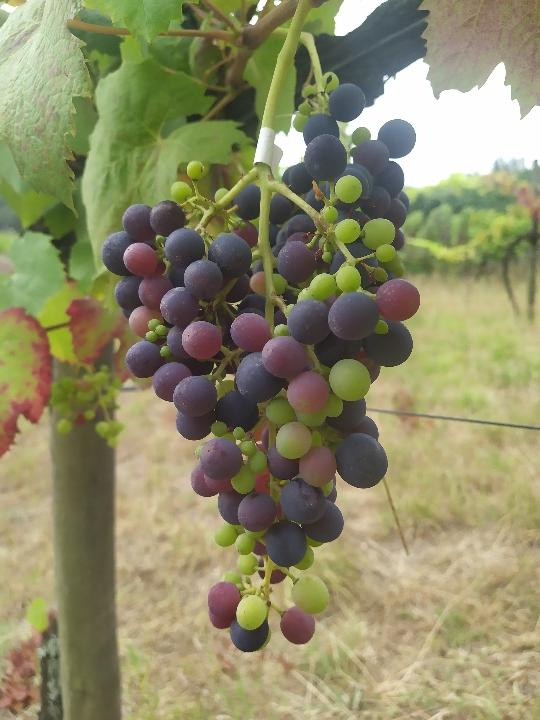grape: (98, 80, 423, 656)
